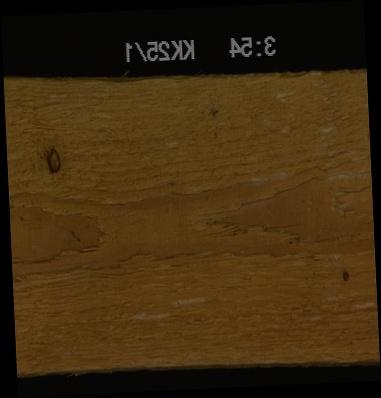dry_knot: (45, 144, 62, 174)
small_knot: (340, 267, 350, 282)
